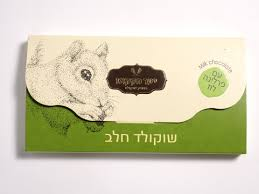Chocolate: (21, 32, 248, 157)
